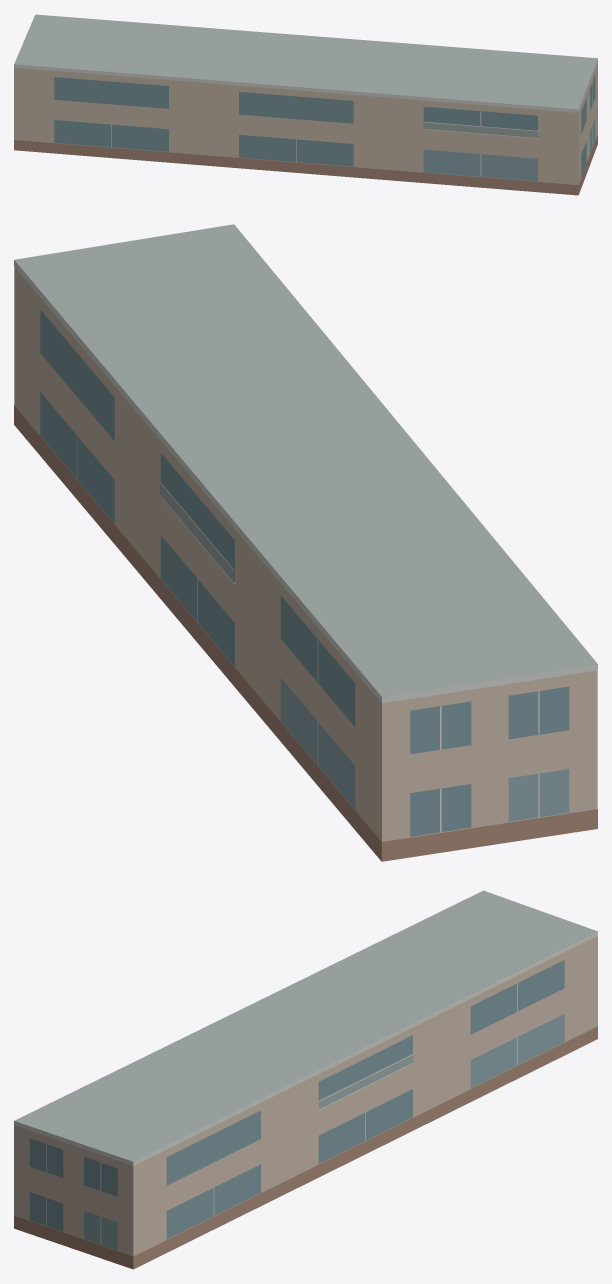
The model's file is survey-upis-32955388.glb.
3 views of the same model, one above another, from view 1: azimuth 30°, elevation 25°; view 2: azimuth 150°, elevation 25°; view 3: azimuth 270°, elevation 25° (orthographic). The views are drawn at different scales.
Parts seen in each view (by area): view 1: survey-upis-32955388.tmp; view 2: survey-upis-32955388.tmp; view 3: survey-upis-32955388.tmp.
Part boxes in pixels (x1,y1,x2,y2): survey-upis-32955388.tmp: [14, 14, 597, 195]; survey-upis-32955388.tmp: [14, 224, 597, 861]; survey-upis-32955388.tmp: [14, 890, 597, 1269].
Size of the model in its own units: 32.97 by 6.1 by 29.99.
